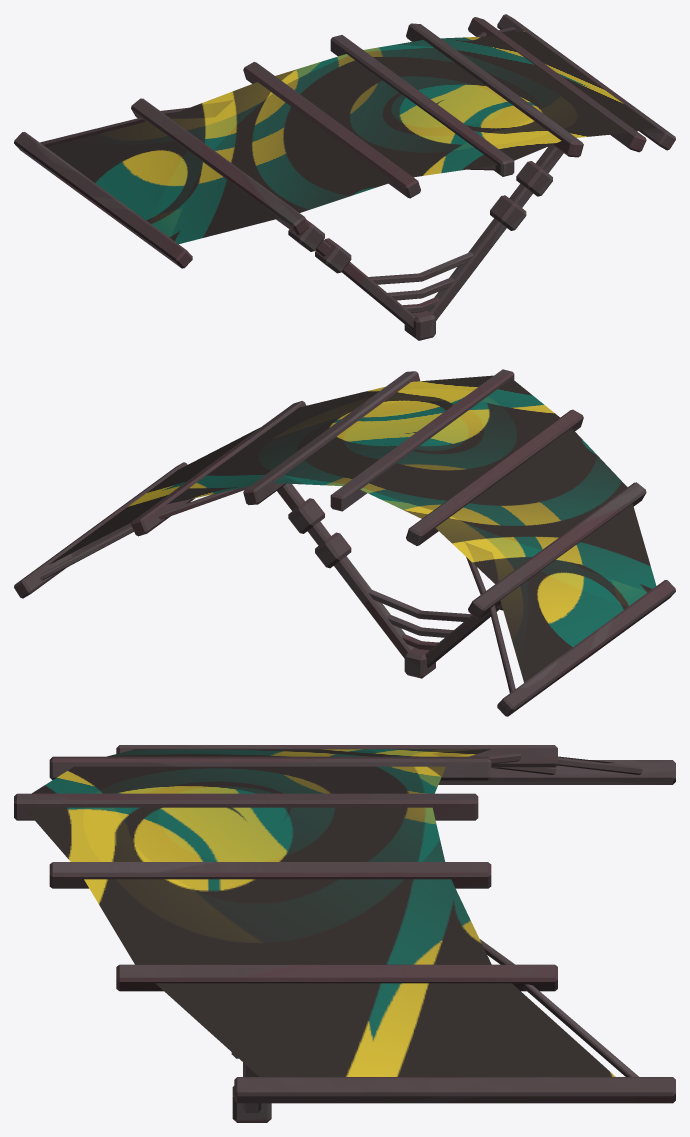
The model's file is Glider.fbx.
3 views of the same model, one above another, from view 1: azimuth 30°, elevation 25°; view 2: azimuth 150°, elevation 25°; view 3: azimuth 270°, elevation 25° (orthographic). The views are drawn at different scales.
Parts seen in each view (by area): view 1: glider; view 2: glider; view 3: glider.
Part boxes in pixels (x1=…): glider: x1=14, y1=14, x2=675, y2=340; glider: x1=14, y1=369, x2=675, y2=716; glider: x1=14, y1=745, x2=675, y2=1122.
Size of the model in its own units: 437 by 199 by 371.
